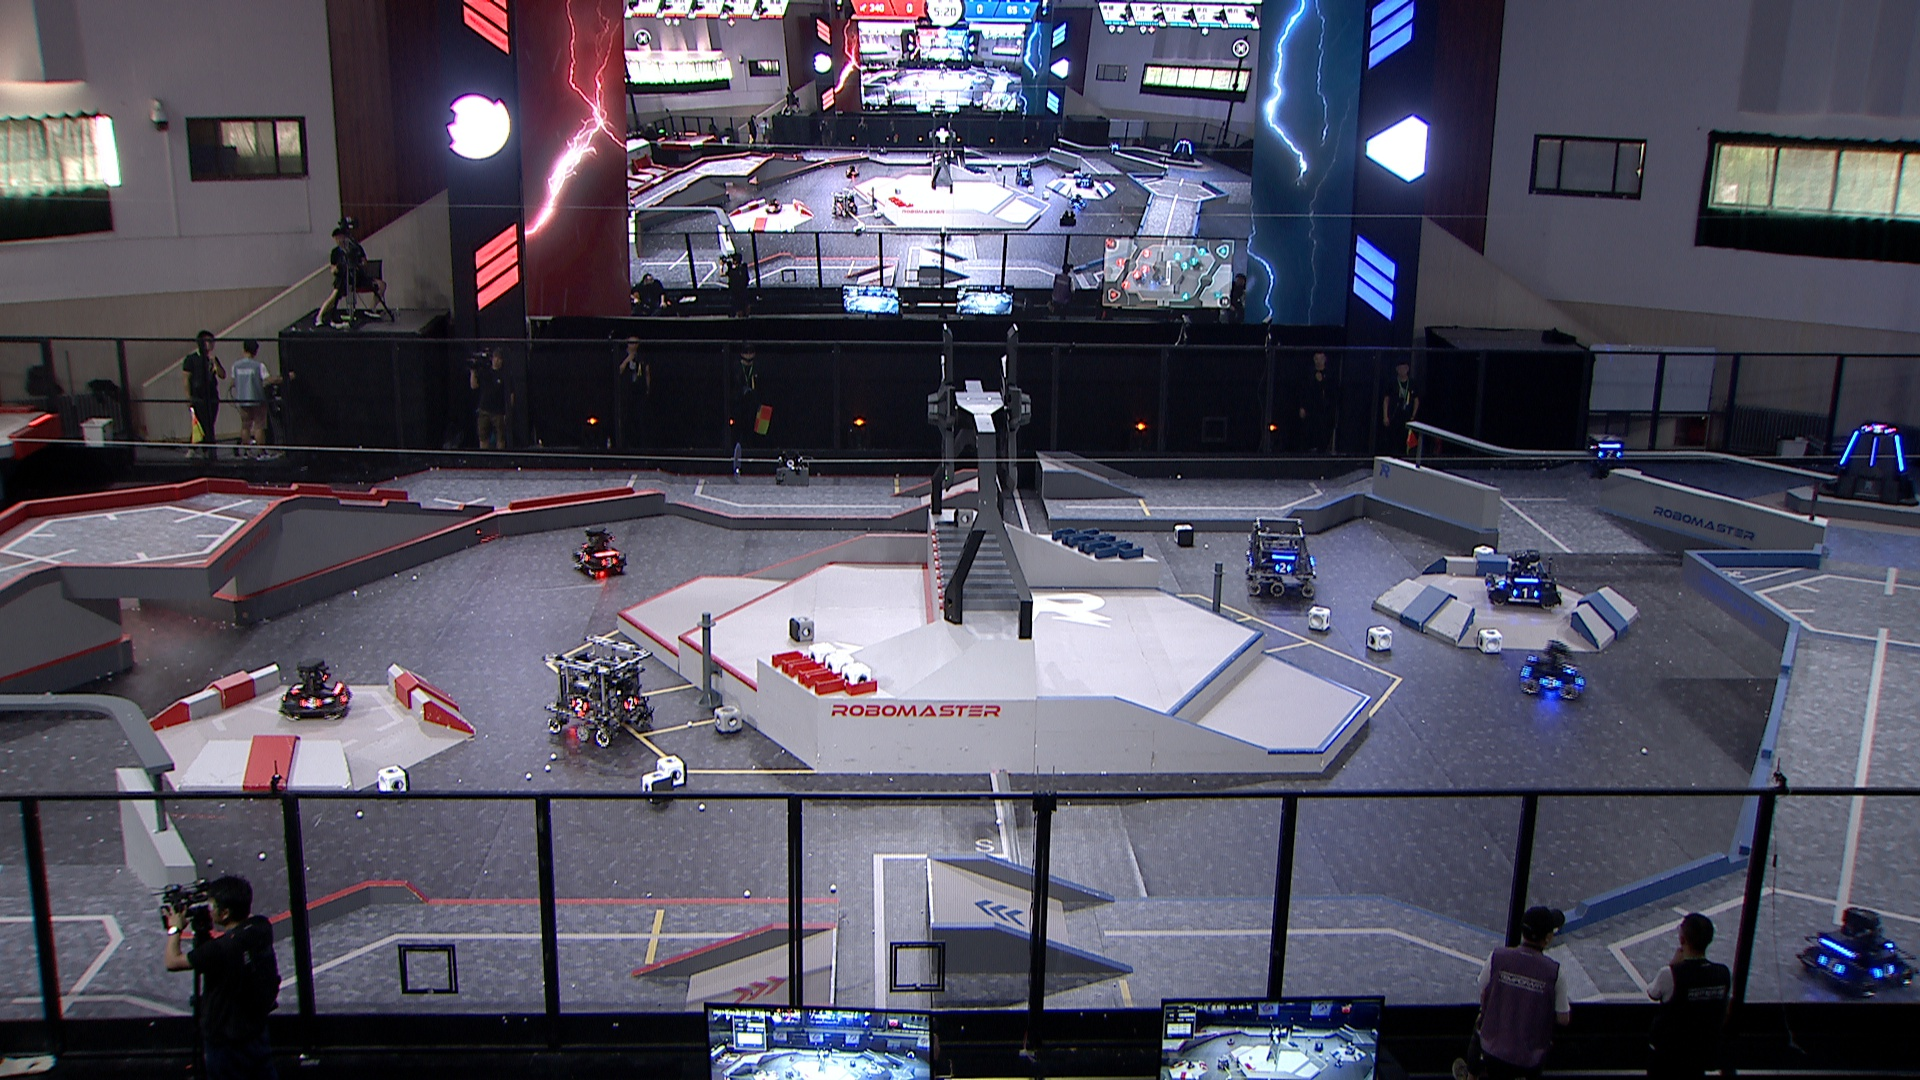armor: (1836, 429, 1859, 469), (1815, 953, 1846, 977), (1871, 963, 1898, 982), (1894, 433, 1904, 473), (1510, 585, 1539, 600), (568, 695, 591, 713), (297, 695, 324, 709), (1538, 674, 1563, 690), (1596, 448, 1623, 462), (1869, 434, 1879, 465), (1560, 659, 1577, 678), (1271, 560, 1294, 574), (622, 695, 641, 711), (290, 680, 305, 698), (339, 688, 352, 704), (599, 556, 618, 567), (1493, 572, 1506, 585), (578, 551, 591, 564)
base: (1816, 419, 1920, 506)
car: (539, 636, 654, 746), (1797, 906, 1920, 1002), (1240, 516, 1317, 599), (1482, 551, 1567, 613), (1518, 641, 1592, 703), (277, 659, 352, 719), (570, 526, 629, 575)
ignore: (1167, 138, 1197, 164), (831, 191, 858, 218), (1013, 162, 1035, 187), (1073, 171, 1095, 190), (764, 196, 785, 215), (1067, 193, 1087, 210), (1863, 423, 1888, 436), (845, 164, 860, 177)
watcher: (1582, 431, 1625, 479)
